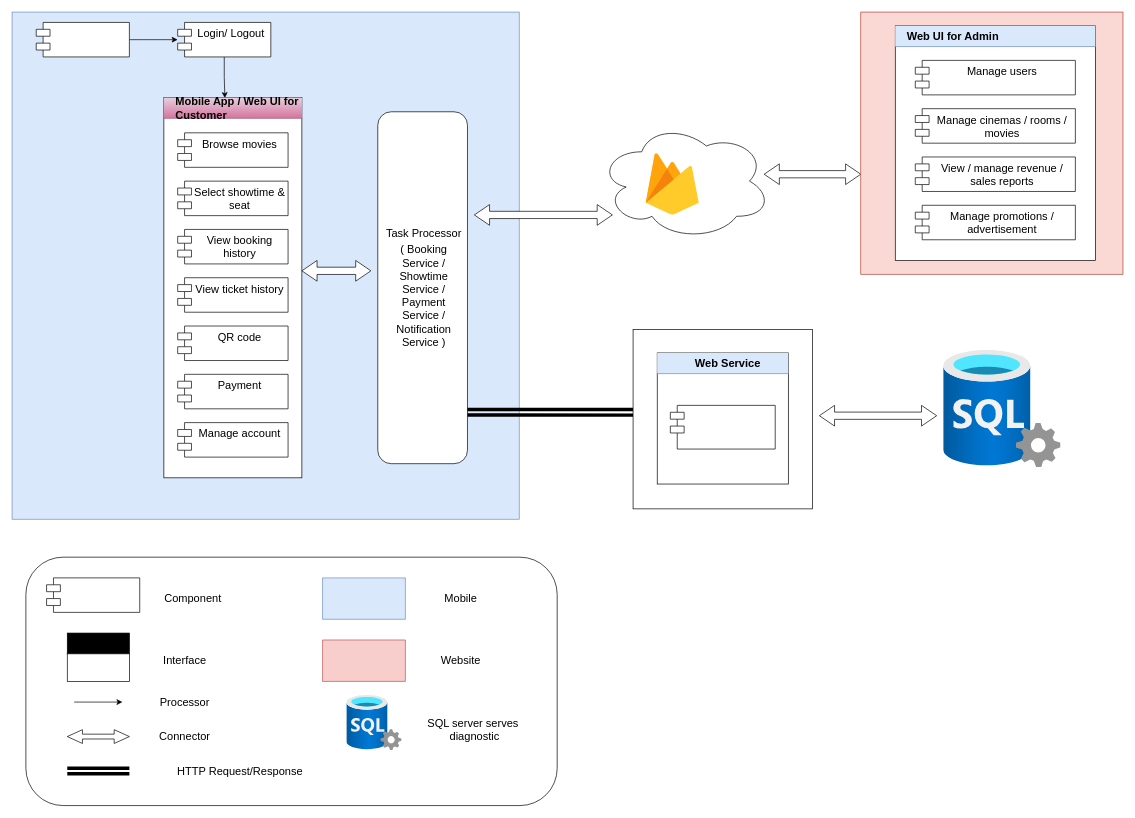
Image size: 1135x818. Some labels were removed from this diagram. Each missing label, with the box of its shape:
Diagnostic: (670, 405, 775, 449)
Firebase: (645, 153, 698, 214)
Registration: (36, 22, 129, 57)
